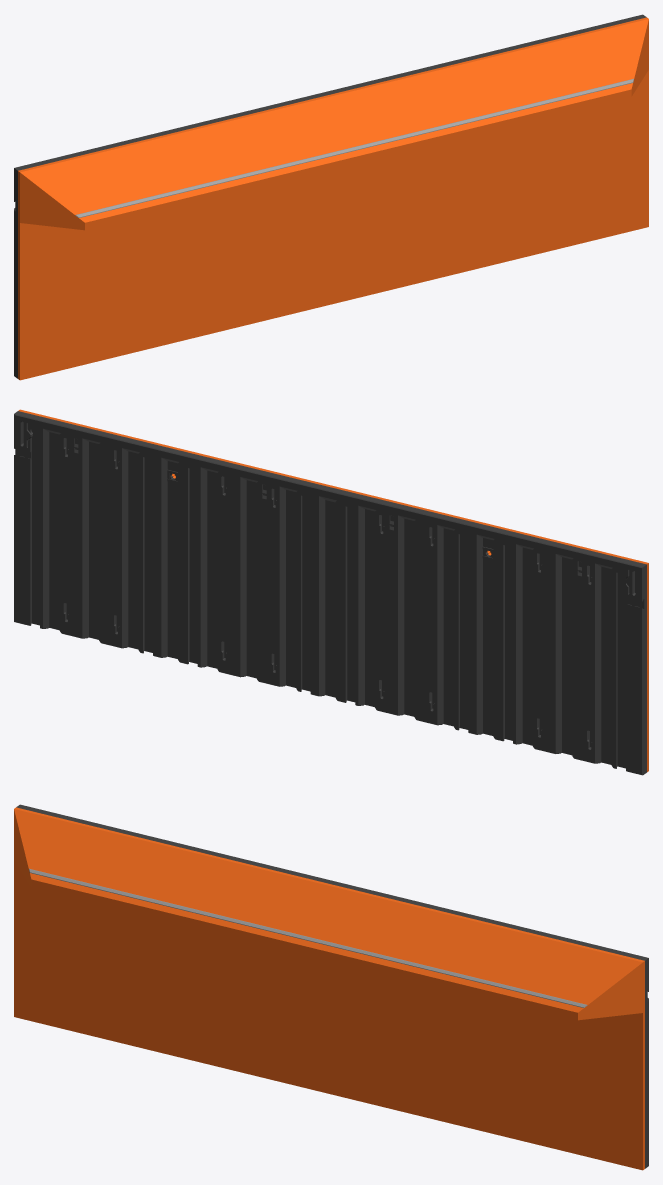
File: Faceplate_ClassicDecor_4W-2H.lib.glb
3 views of the same model, one above another, from view 1: azimuth 30°, elevation 25°; view 2: azimuth 150°, elevation 25°; view 3: azimuth 330°, elevation 25° (orthographic).
Visible parts, largest first — view 1: Faceplate_ClassicDecor_4W-2H; view 2: Faceplate_ClassicDecor_4W-2H; view 3: Faceplate_ClassicDecor_4W-2H.
Boxes of the visible parts, x1=… form: Faceplate_ClassicDecor_4W-2H: x1=14, y1=14, x2=648, y2=380; Faceplate_ClassicDecor_4W-2H: x1=14, y1=409, x2=648, y2=775; Faceplate_ClassicDecor_4W-2H: x1=14, y1=804, x2=648, y2=1170.
Size of the model in its own units: 351 by 111 by 29.18.
